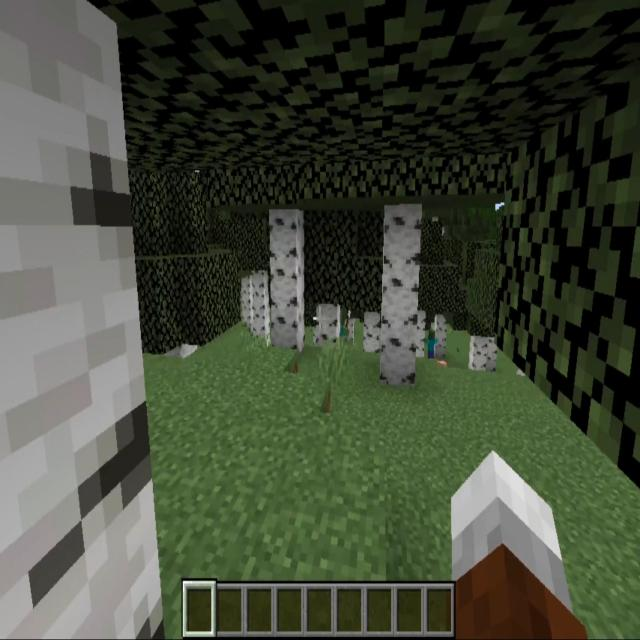Pig: (435, 354, 446, 371)
Zombie: (425, 328, 439, 359)
